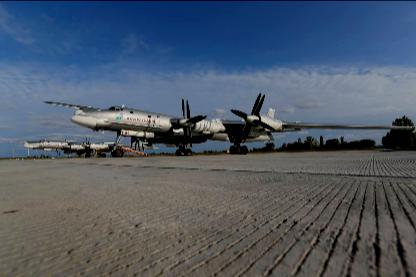Su57: (44, 92, 413, 156), (13, 136, 159, 158)
